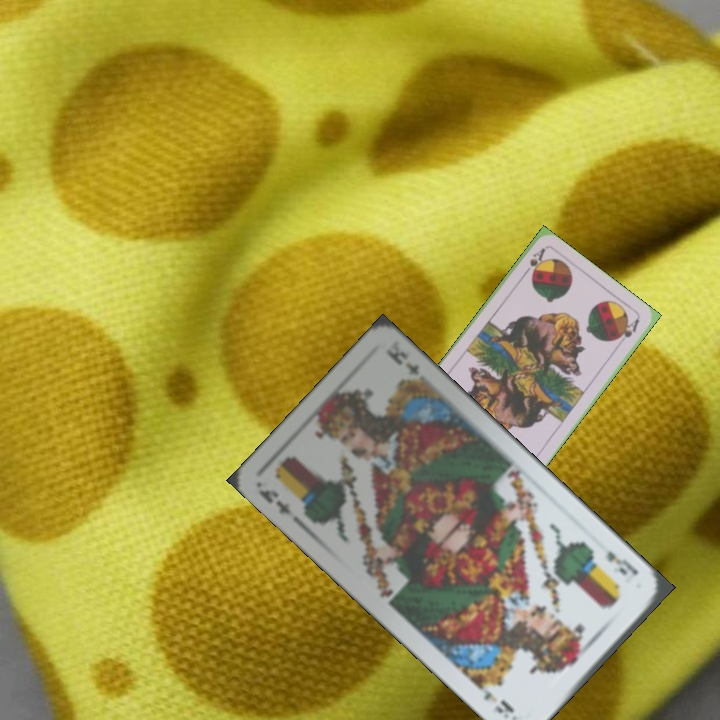EK: (255, 485, 304, 527), (602, 547, 641, 578)
SA: (518, 244, 548, 279)
